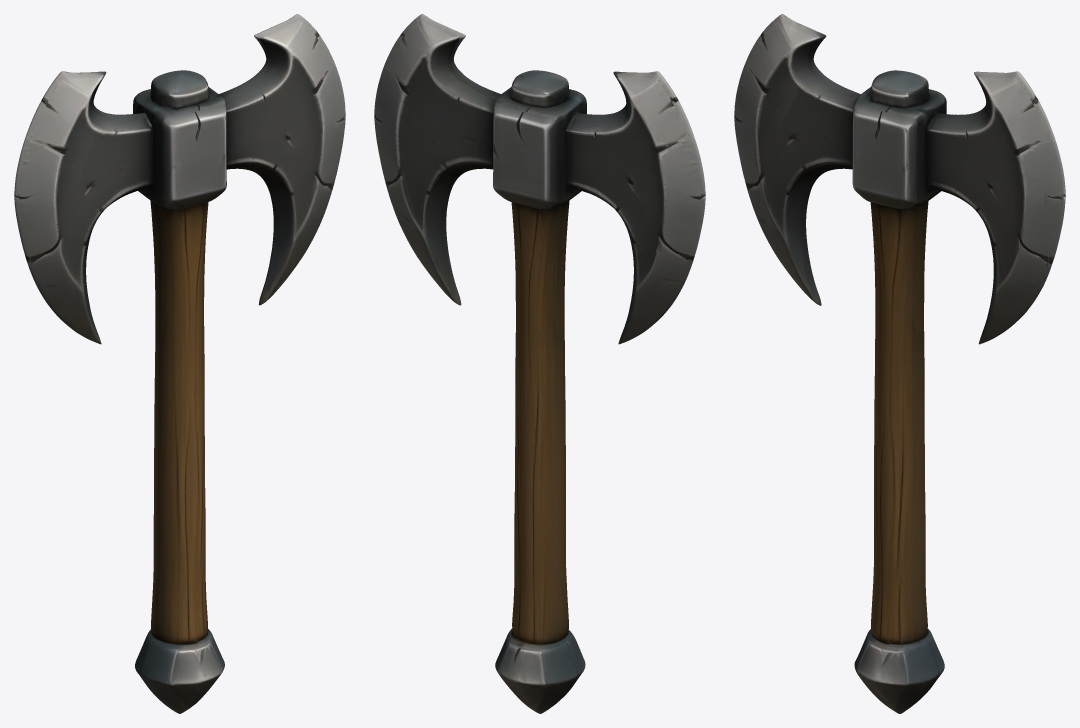
Rendered from pickaxe.glb.
The picture shows the model from 3 angles, left to right: view 1: azimuth 30°, elevation 25°; view 2: azimuth 150°, elevation 25°; view 3: azimuth 330°, elevation 25°; orthographic projection.
Parts seen in each view (by area): view 1: node_0; view 2: node_0; view 3: node_0.
Boxes of the visible parts, x1,y1,x2,y2 form: node_0: (14, 14, 345, 713); node_0: (374, 14, 705, 713); node_0: (734, 14, 1065, 713).
Bounding box in the file's own units: 0.5814 × 1.13 × 0.1351.
1 material, 1 textured.
